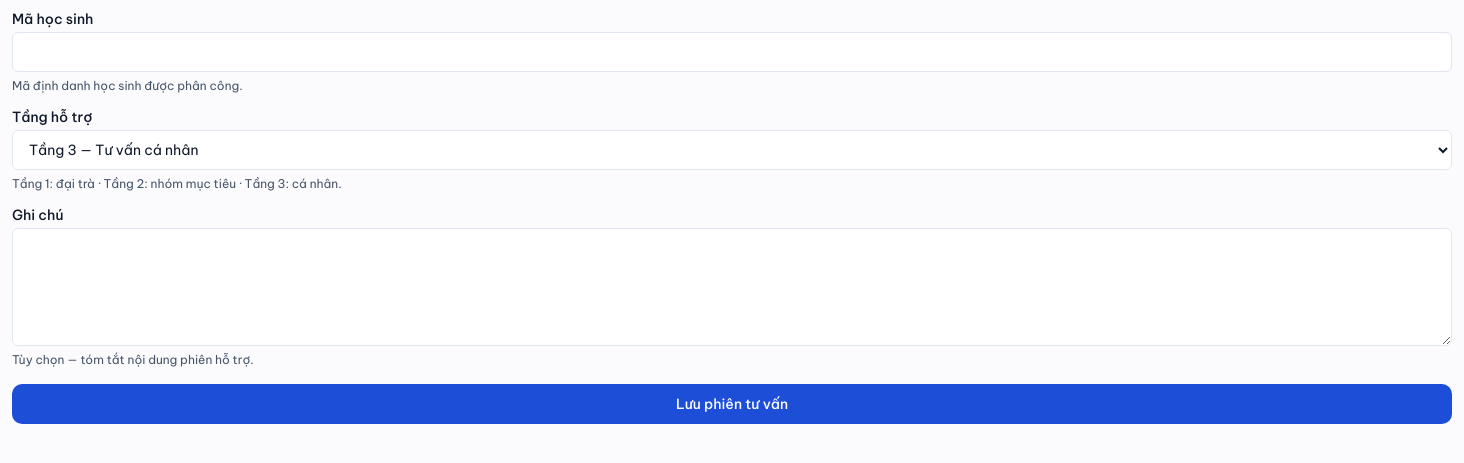
Scenario: SessionForm (FR-81) › validates that a student id is required before submitting
Step 1. Click the button "Lưu phiên tư vấn" → {"x": 732, "y": 404}, box [12,384,1452,424]
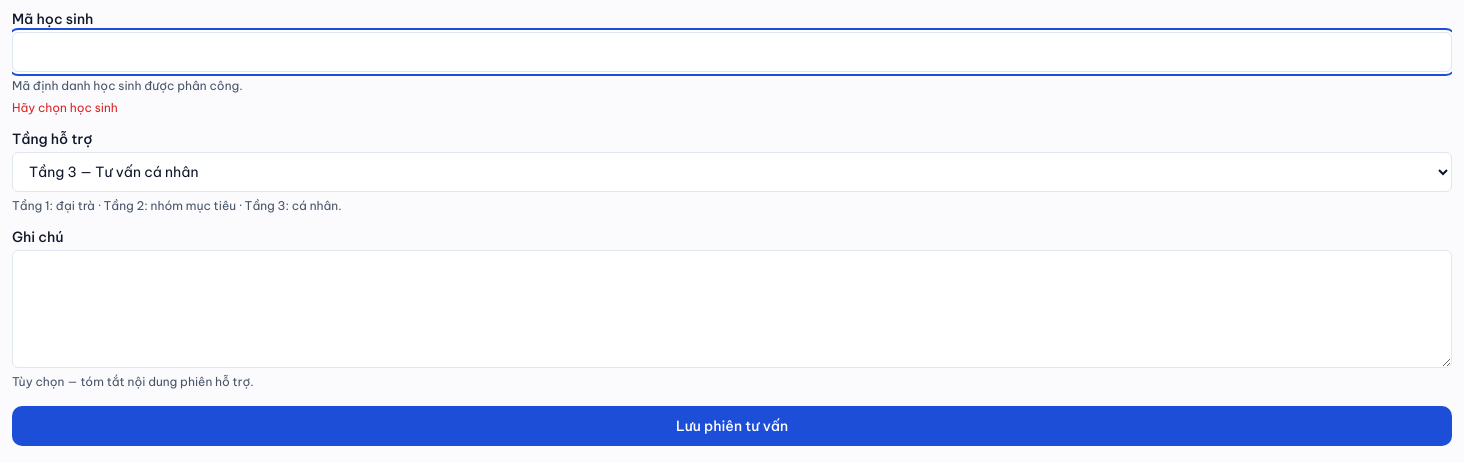
Expected: the text "Hãy chọn học sinh" is shown, [12,100,118,115]
